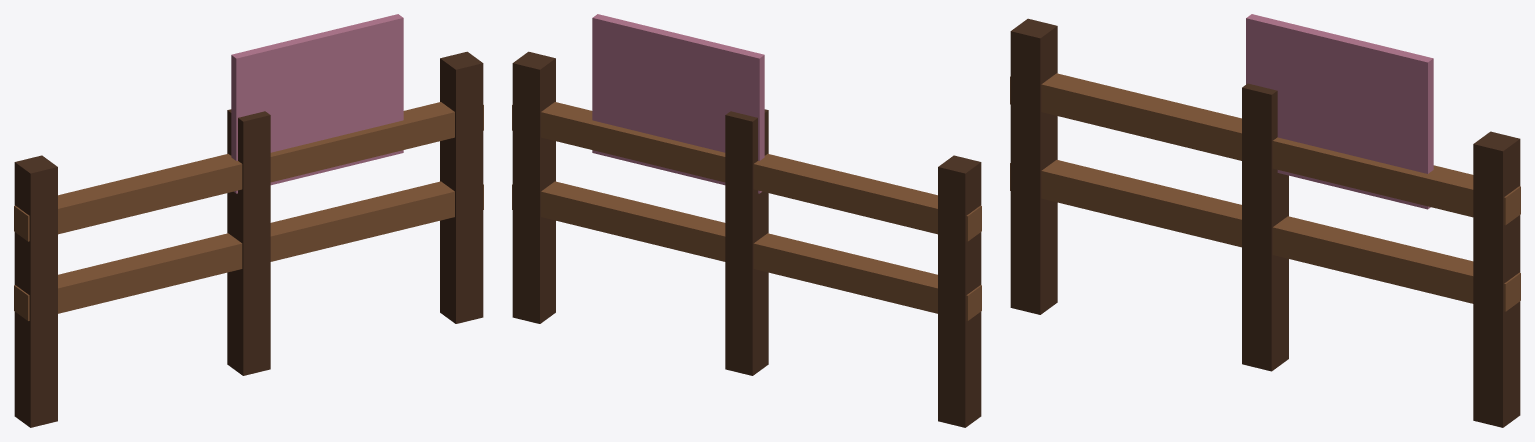
The model's file is laundry_line.glb.
The picture shows the model from 3 angles, left to right: view 1: azimuth 30°, elevation 25°; view 2: azimuth 150°, elevation 25°; view 3: azimuth 330°, elevation 25°; orthographic projection. The views are drawn at different scales.
Visible parts, largest first — view 1: cloth, rail_a, rail_b, post_0, post_2, post_1; view 2: cloth, rail_a, rail_b, post_0, post_2, post_1; view 3: cloth, rail_a, rail_b, post_2, post_0, post_1.
Boxes of the visible parts, x1,y1,x2,y2 form: cloth: (231, 14, 403, 193); rail_a: (14, 181, 483, 320); rail_b: (14, 102, 483, 241); post_0: (14, 155, 57, 427); post_2: (440, 51, 483, 323); post_1: (227, 109, 270, 375); cloth: (592, 14, 764, 193); rail_a: (512, 181, 981, 320); rail_b: (512, 102, 981, 241); post_0: (938, 155, 981, 427); post_2: (512, 51, 555, 323); post_1: (725, 109, 768, 375); cloth: (1246, 14, 1433, 209); rail_a: (1010, 160, 1520, 311); rail_b: (1010, 73, 1520, 225); post_2: (1473, 131, 1520, 427); post_0: (1010, 18, 1057, 314); post_1: (1242, 83, 1288, 371).
Size of what is drawn, in the model's own units: 3 by 1.98 by 0.18.
